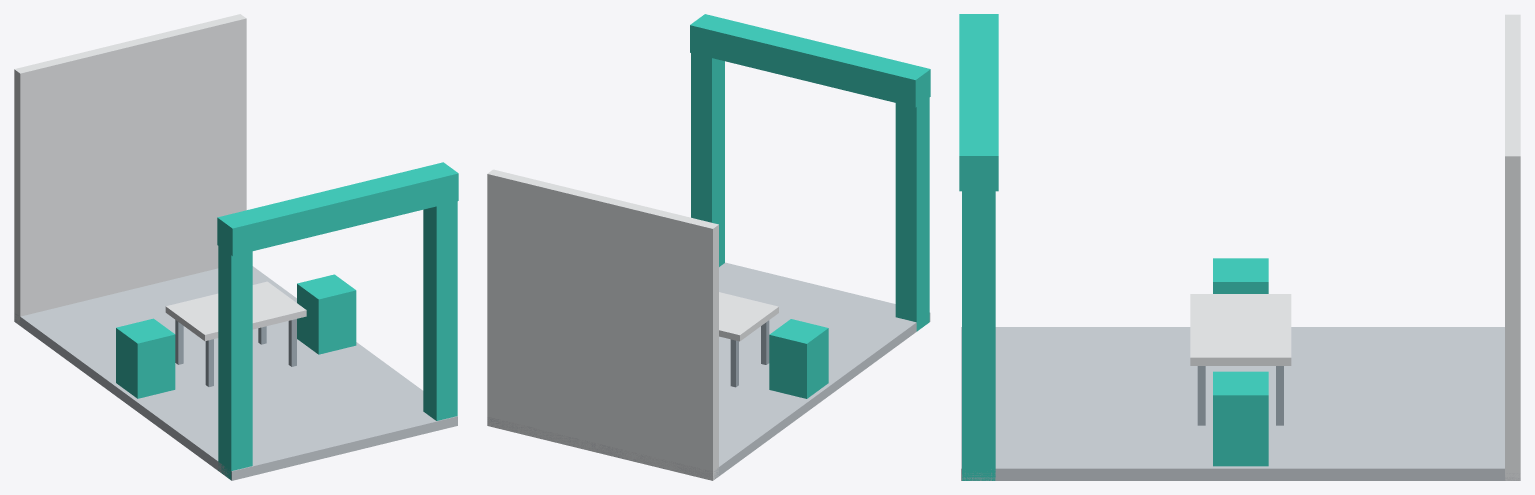
3 renders of one model, left to right at view 1: azimuth 30°, elevation 25°; view 2: azimuth 150°, elevation 25°; view 3: azimuth 270°, elevation 25°, orthographic. The views are drawn at different scales.
Visible parts, largest first — view 1: Exhibition Booth Concept; view 2: Exhibition Booth Concept; view 3: Exhibition Booth Concept.
Boxes of the visible parts, left/top/right/bottom form: Exhibition Booth Concept: left=14, top=14, right=458, bottom=480; Exhibition Booth Concept: left=487, top=14, right=930, bottom=480; Exhibition Booth Concept: left=959, top=14, right=1520, bottom=480.
Bounding box in the file's own units: 3 × 3.2 × 5.02.
